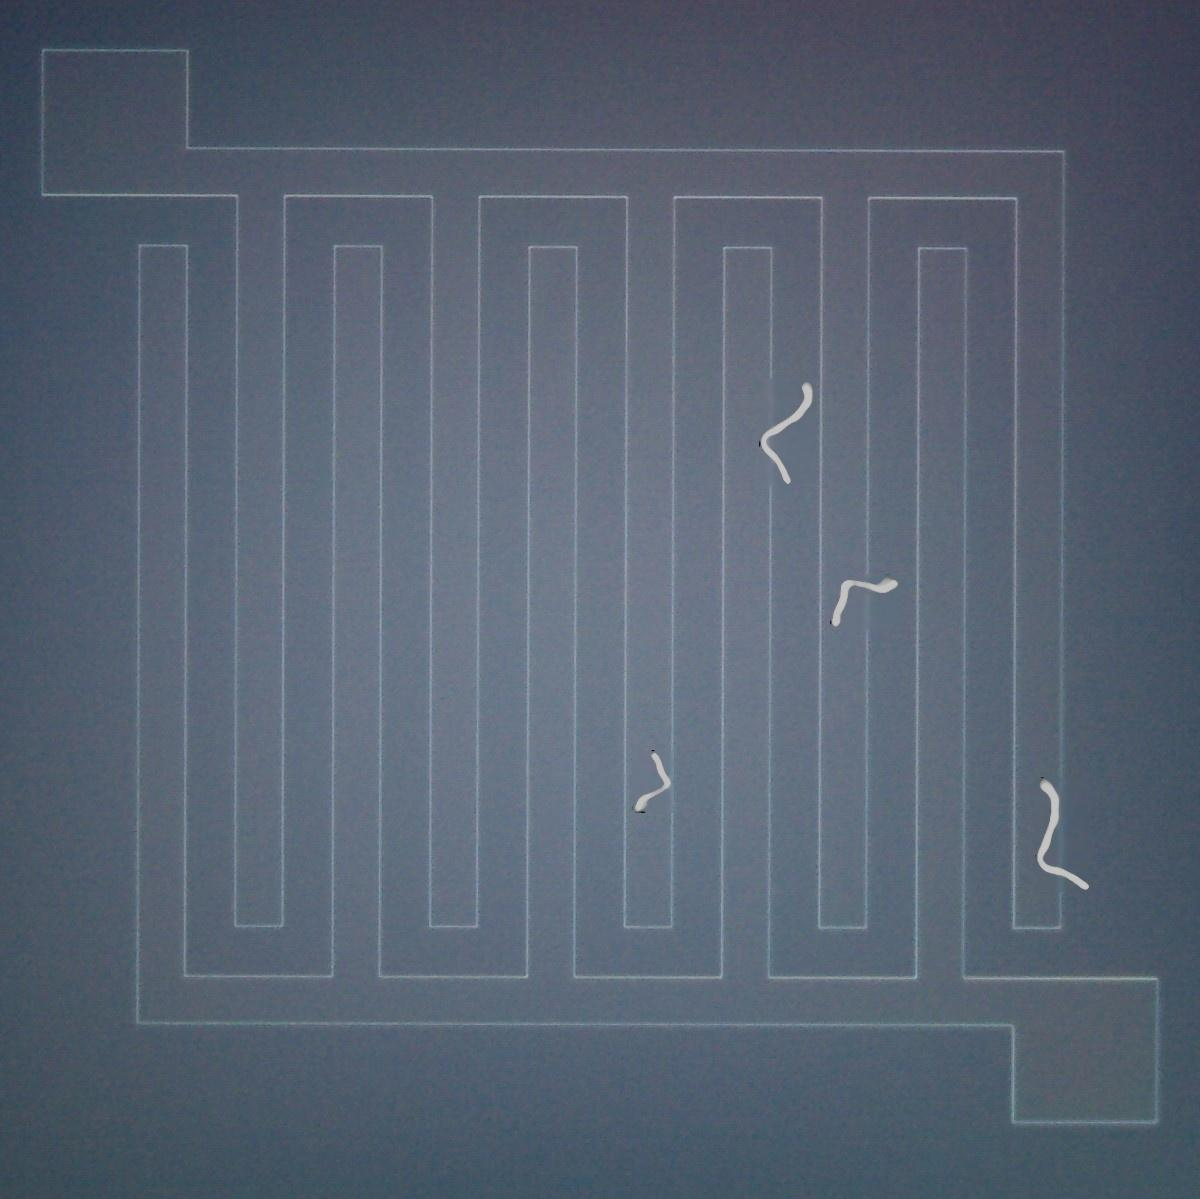foreign: (1029, 775, 1100, 899), (753, 376, 829, 490), (826, 569, 906, 636), (627, 746, 678, 821)
